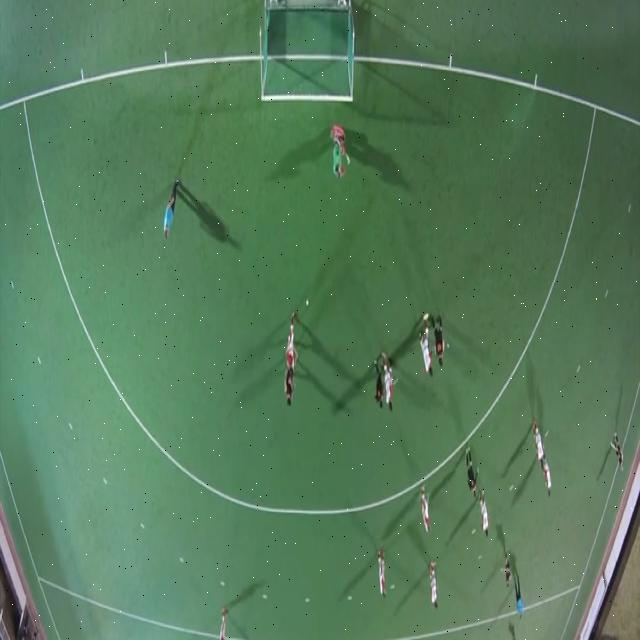humans: (461, 435, 482, 503), (330, 118, 350, 182), (285, 304, 301, 384), (419, 312, 434, 384), (162, 177, 178, 244), (386, 348, 400, 421), (425, 550, 440, 617), (610, 418, 626, 480), (420, 479, 435, 540), (372, 346, 386, 411), (531, 417, 546, 475), (374, 544, 388, 606), (477, 489, 491, 545), (436, 316, 449, 370), (514, 563, 522, 629), (502, 547, 511, 597), (545, 461, 553, 505), (284, 386, 296, 415)
